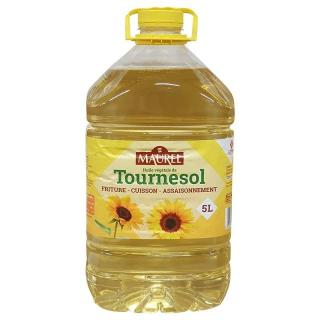Plastic-bottle: (84, 1, 236, 316)
